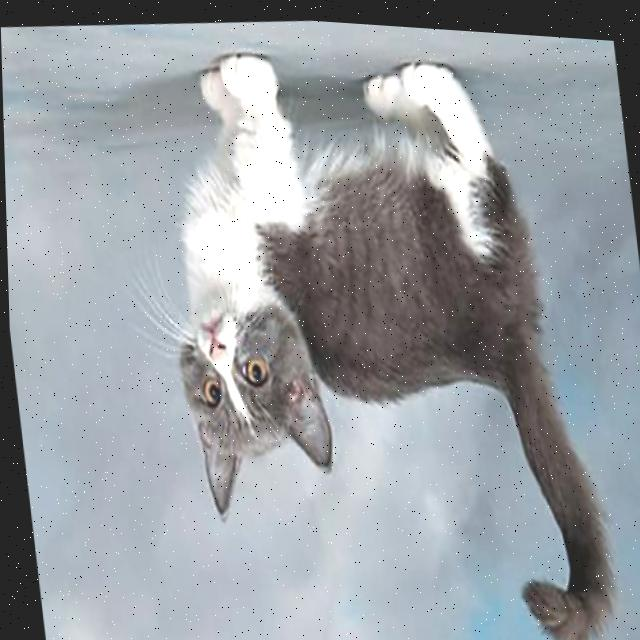Munchkin: (139, 13, 623, 640)
